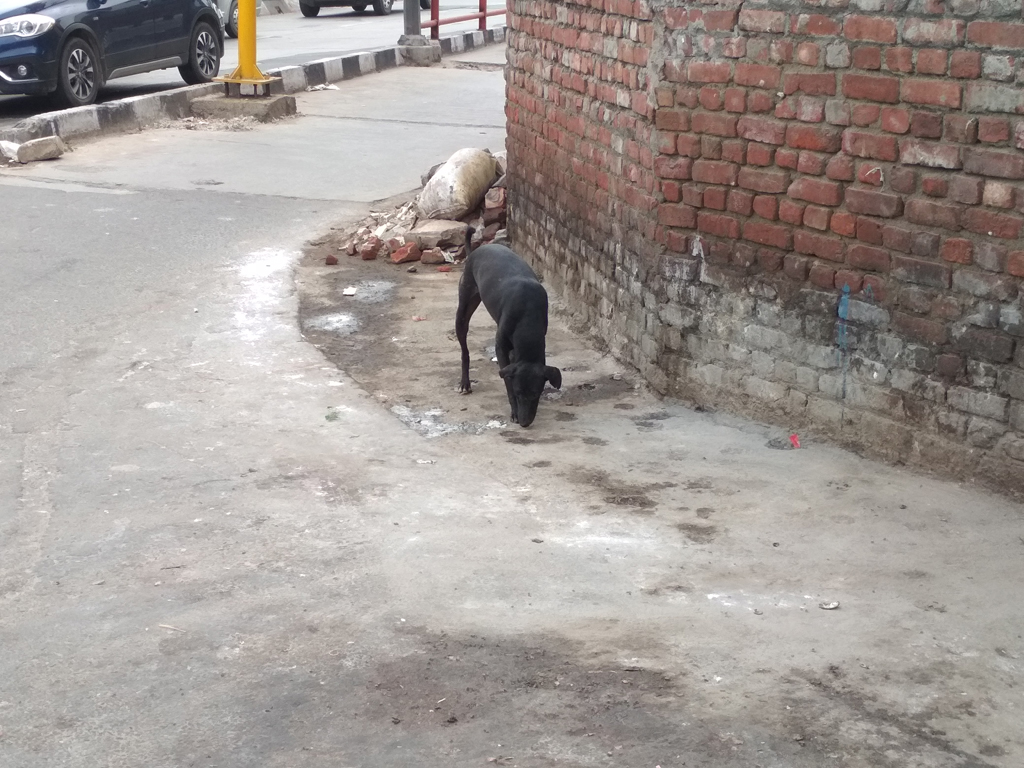dog: (456, 225, 563, 428)
